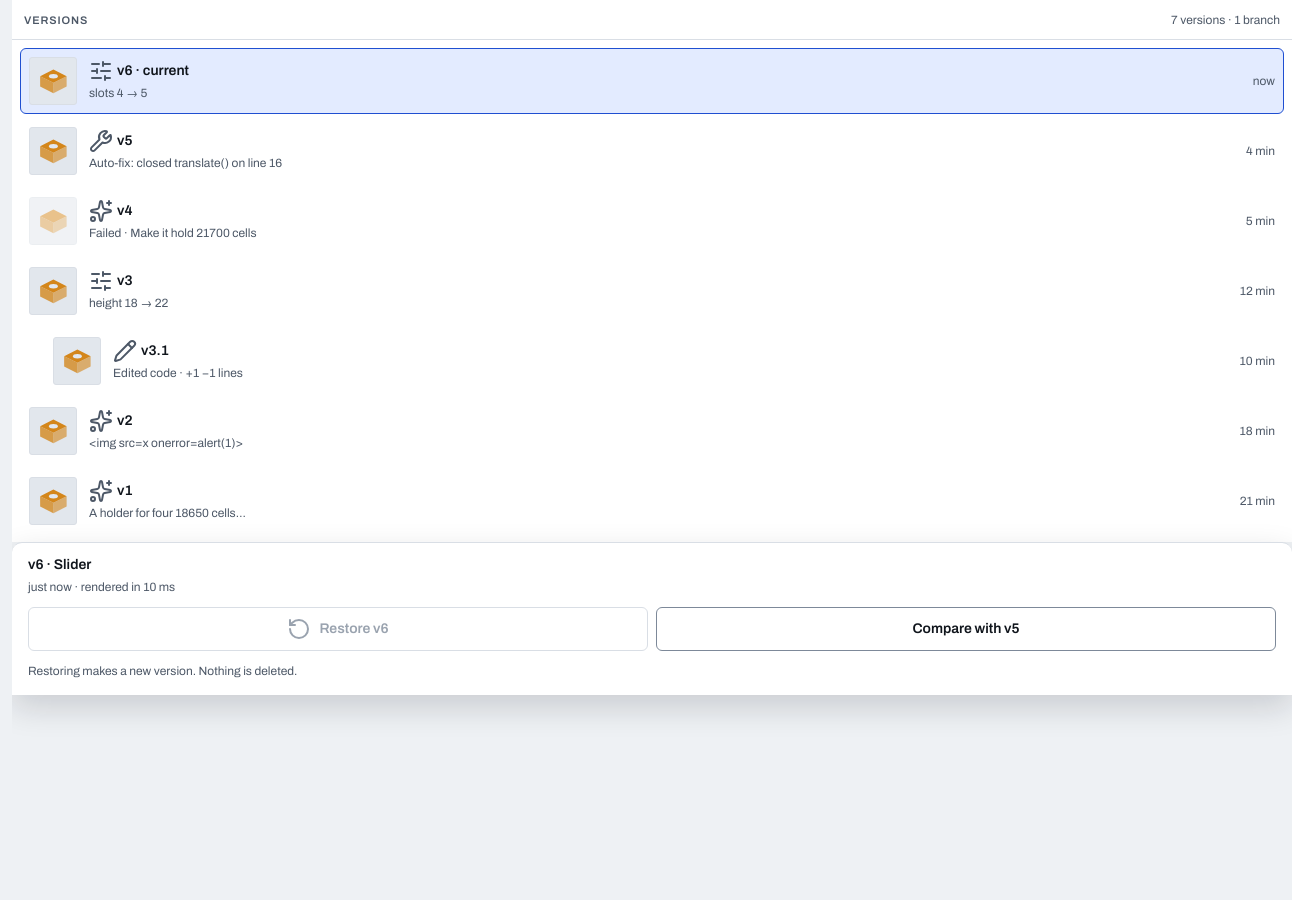
Test: on a phone › compares the current version with its parent
Click the button "Compare with v5". click: (966, 629)
box: 656,607 -> 1276,651
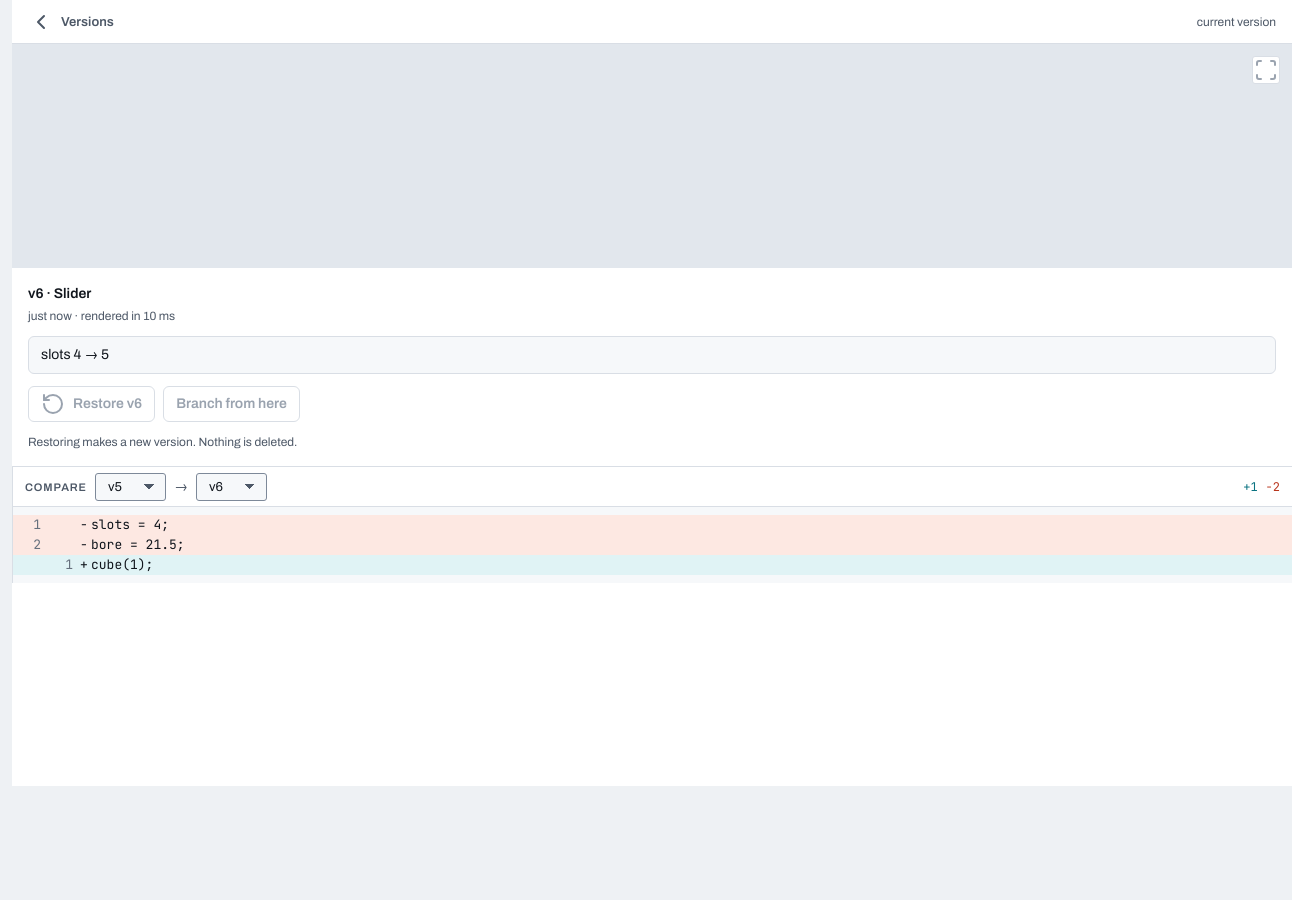
Expected: the dropdown named "From version" shows "v5", 95,472 -> 166,500
Expected: the dropdown named "To version" shows "v6", 196,472 -> 267,500
